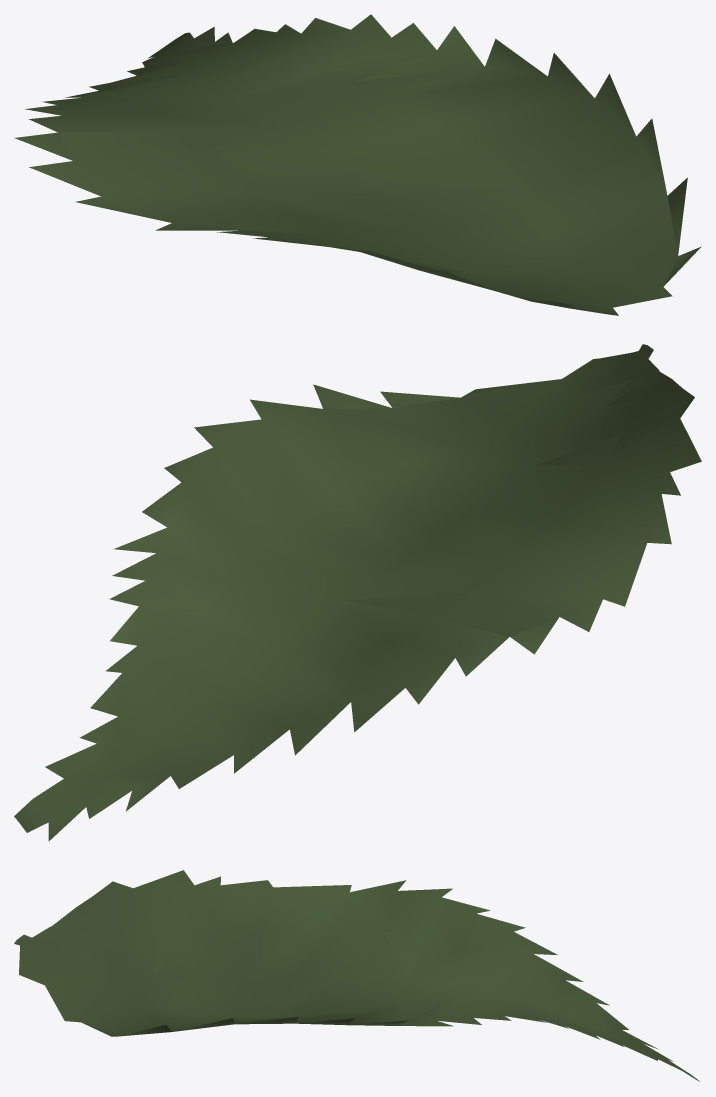
Rendered from trees-leaves-elm-leaf_v9.glb.
3 views of the same model, one above another, from view 1: azimuth 30°, elevation 25°; view 2: azimuth 150°, elevation 25°; view 3: azimuth 270°, elevation 25° (orthographic). The views are drawn at different scales.
Parts seen in each view (by area): view 1: Elm Leaf_v9; view 2: Elm Leaf_v9; view 3: Elm Leaf_v9.
Boxes of the visible parts, bbox=[...] form: Elm Leaf_v9: bbox=[14, 14, 701, 315]; Elm Leaf_v9: bbox=[14, 344, 701, 841]; Elm Leaf_v9: bbox=[14, 870, 699, 1081].
Bounding box in the file's own units: 0.0544 × 0.0202 × 0.1.
